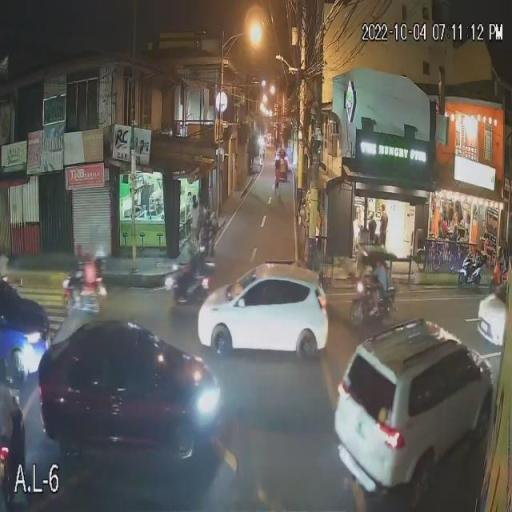helmet: (78, 255, 90, 277), (195, 238, 211, 253), (95, 242, 109, 259), (184, 245, 198, 259)
motorcycle: (159, 266, 218, 306), (56, 275, 114, 313)
rider: (194, 236, 218, 276), (89, 243, 109, 288), (70, 254, 90, 292), (184, 243, 198, 281)
